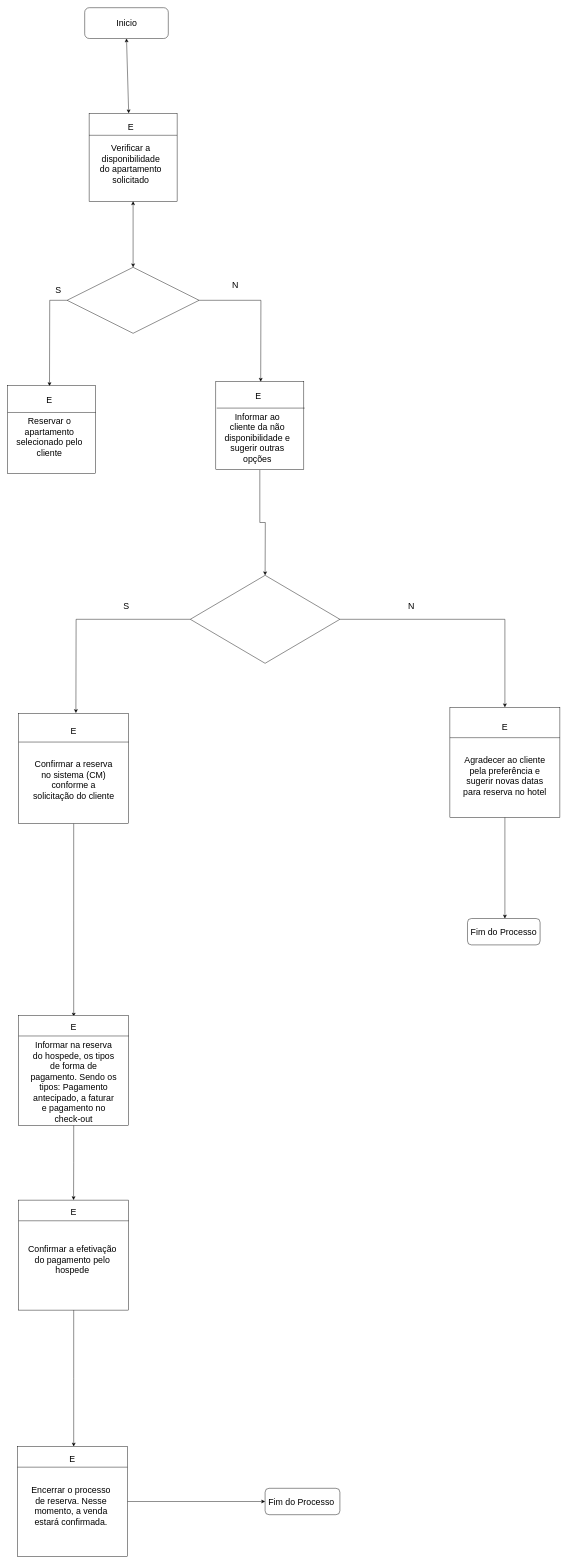
This 568x1564 diagram has some shape labels left out. Each missing label, with the centre of its shape:
"As opções disponibilizadas atende a necessidade do cliente?" belongs at (x=265, y=619).
"Os apartamentos disponiveis atendem a necessidade do cliente?" belongs at (x=133, y=300).
